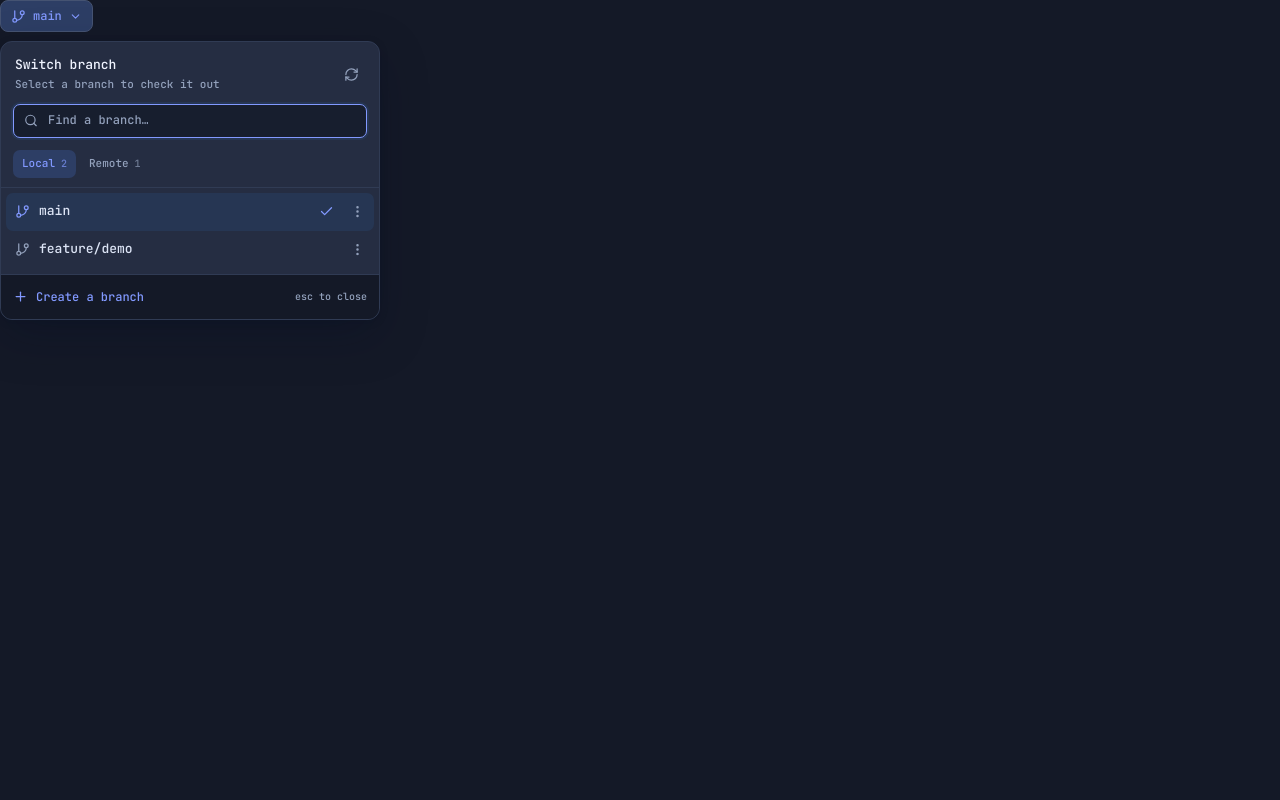
Scenario: branch switching › filters by full branch path and separates remote branches
This screenshot has width=1280, height=800.
Type "feature/demo" into the field labelled "Find a branch".
click(201, 121); type("feature/demo")  # box [46,111,356,130]
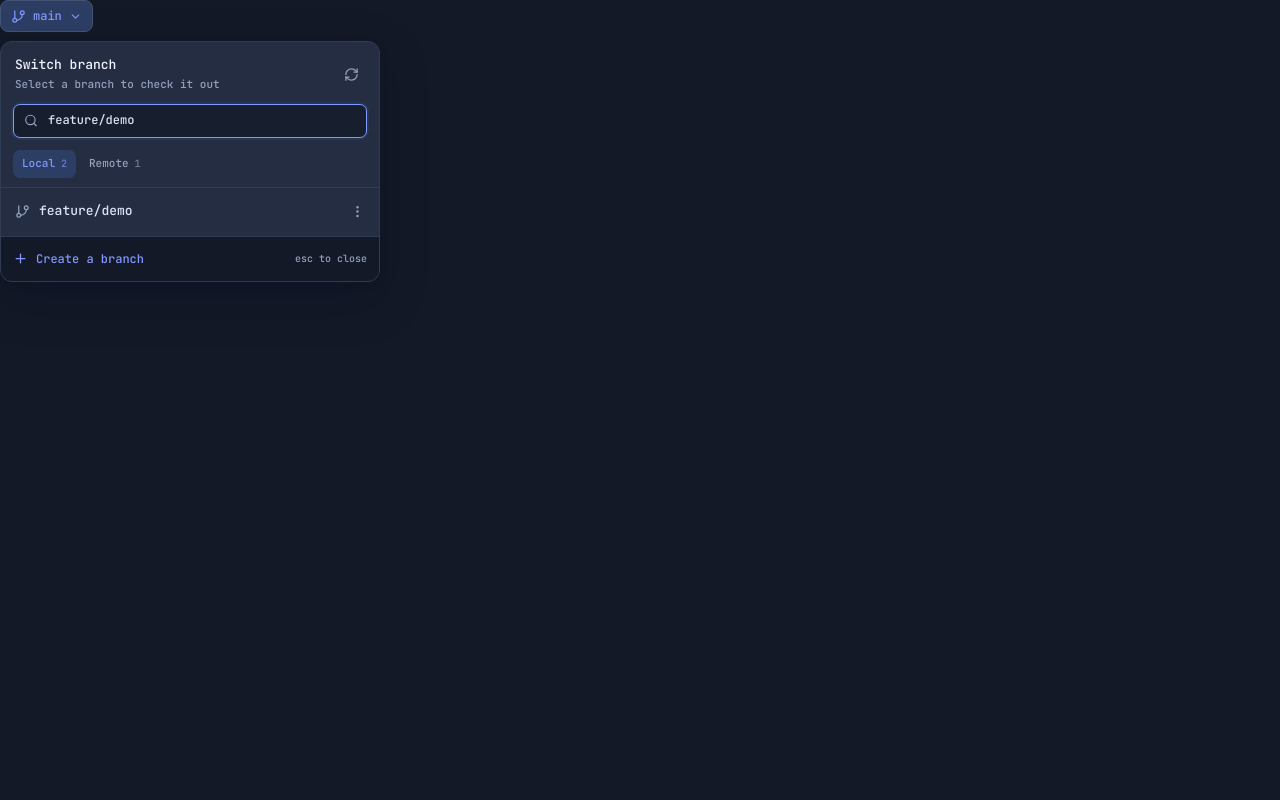
Expected: the button titled "Checkout feature/demo" is shown, [6,193,343,231]
Click the tab "Remote 1".
click(115, 164)  # box [80,150,150,178]
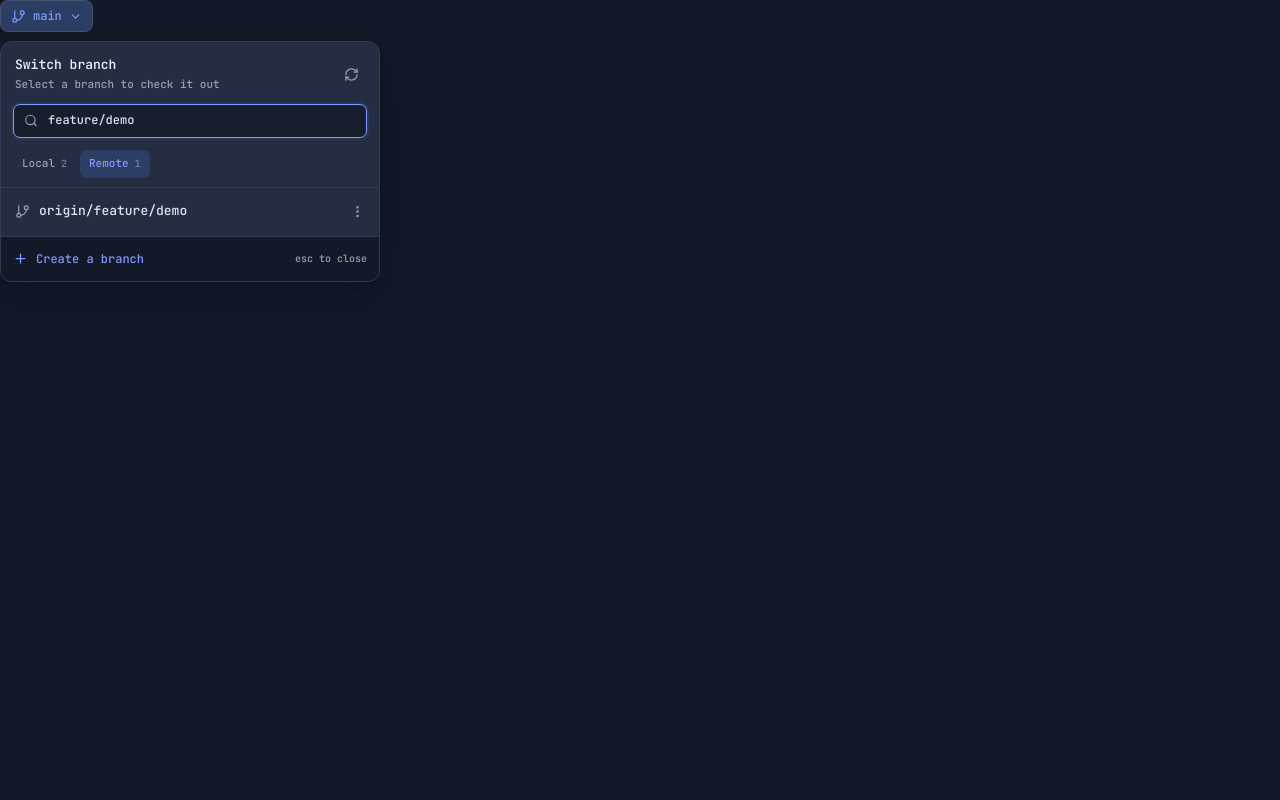
Result: the button titled "Checkout origin/feature/demo" is shown at [6,193,343,231]
